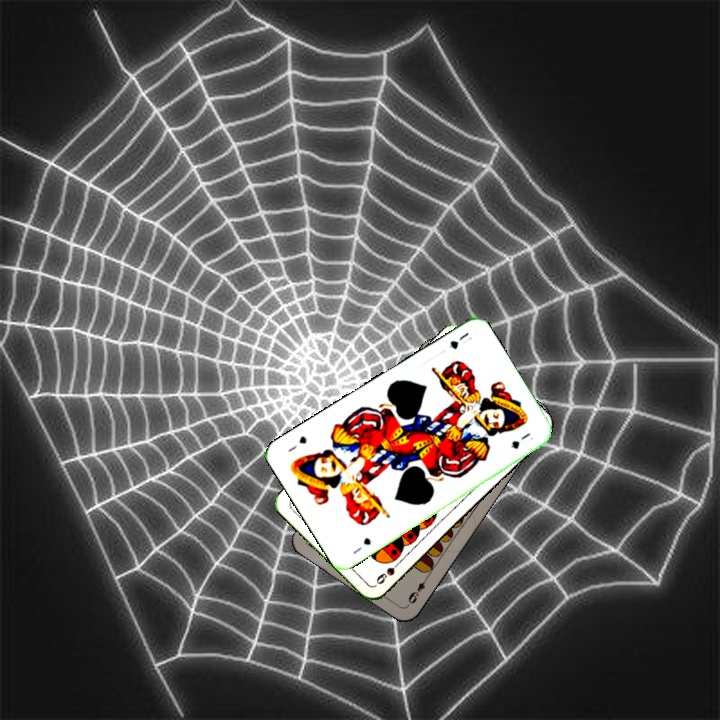E9: (404, 572, 431, 608)
GU: (445, 328, 471, 352), (349, 533, 374, 557)
S9: (372, 556, 405, 587)
